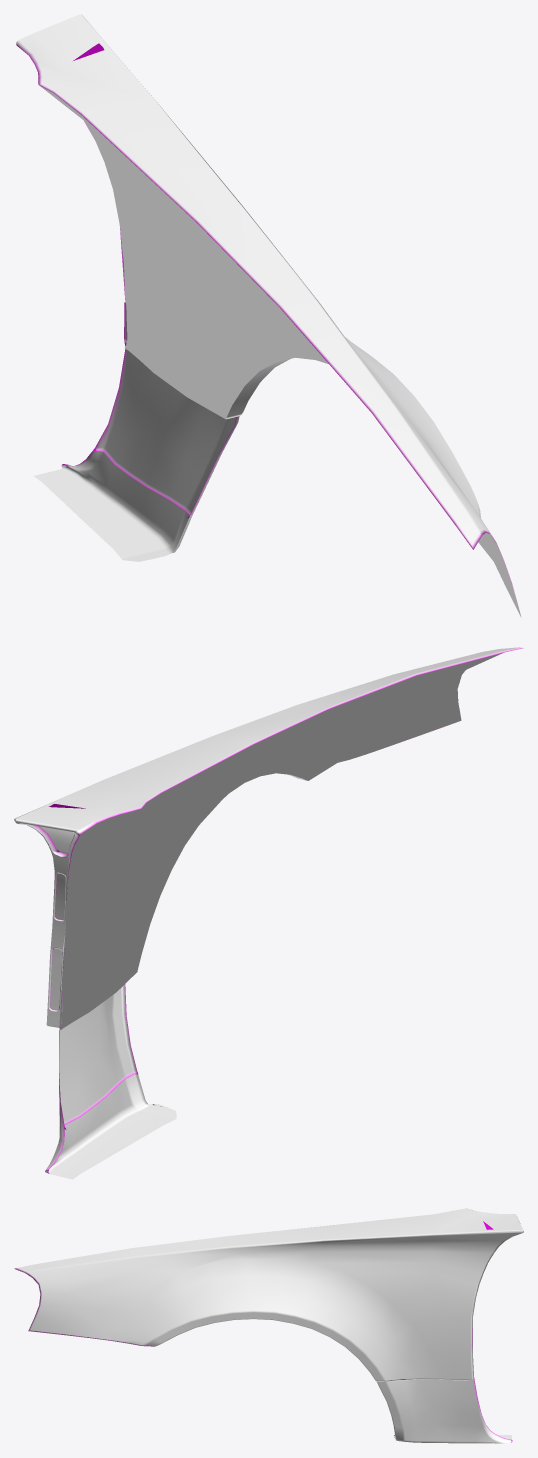
File: Car_Nissan_SkylineGTRVspecR34_1999_FenderFL_SetE_AltB.fbx
The picture shows the model from 3 angles, top to bottom: view 1: azimuth 30°, elevation 25°; view 2: azimuth 150°, elevation 25°; view 3: azimuth 270°, elevation 25°; orthographic projection. The views are drawn at different scales.
Visible parts, largest first — view 1: FenderFL 6; view 2: FenderFL 6; view 3: FenderFL 6.
Part boxes in pixels (box(x1,y1,x2,y2)): FenderFL 6: box(16, 14, 521, 617); FenderFL 6: box(14, 647, 523, 1179); FenderFL 6: box(14, 1208, 523, 1443).
Bounding box in the file's own units: 0.2093 × 0.6255 × 1.32.
